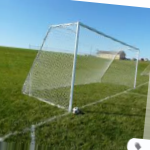goals: (25, 20, 140, 110)
